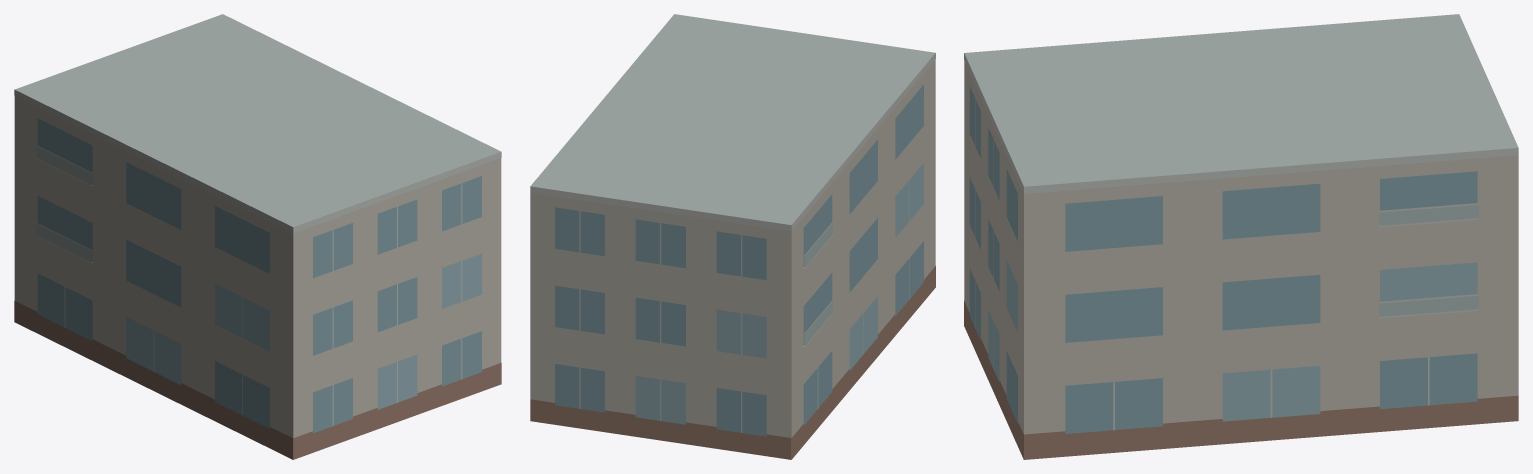
The model's file is survey-upis-32708120.glb.
3 renders of one model, left to right at view 1: azimuth 30°, elevation 25°; view 2: azimuth 150°, elevation 25°; view 3: azimuth 270°, elevation 25°, orthographic. The views are drawn at different scales.
Visible parts, largest first — view 1: survey-upis-32708120.tmp; view 2: survey-upis-32708120.tmp; view 3: survey-upis-32708120.tmp.
Part boxes in pixels (<box>): survey-upis-32708120.tmp: <box>14,14,501,459</box>; survey-upis-32708120.tmp: <box>530,14,935,459</box>; survey-upis-32708120.tmp: <box>964,14,1518,459</box>.
Bounding box in the file's own units: 12.42 × 9.15 × 16.84.
